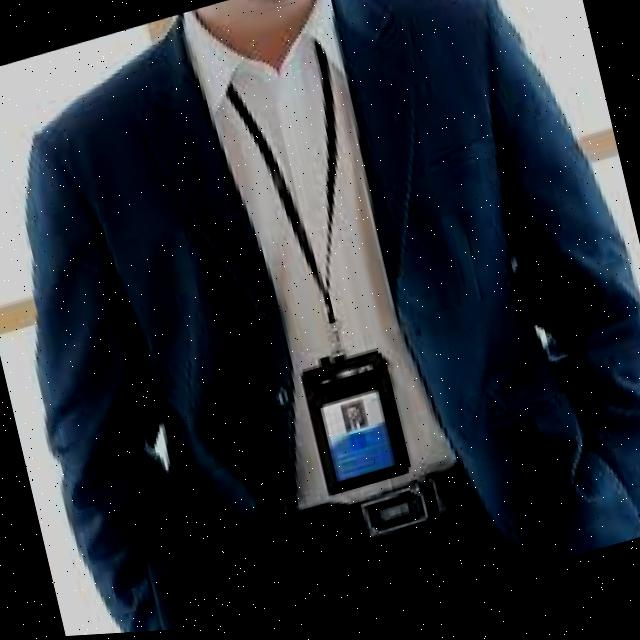id_card: (212, 42, 438, 516)
